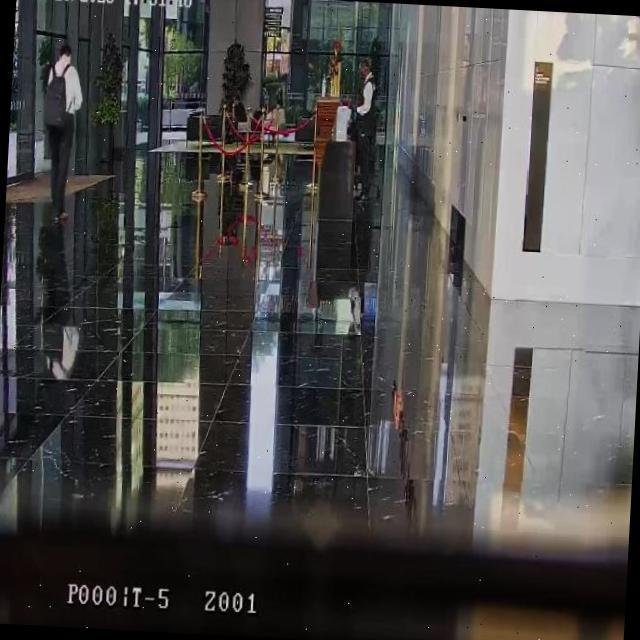person: (38, 42, 86, 226), (350, 59, 380, 198), (228, 92, 249, 144)
